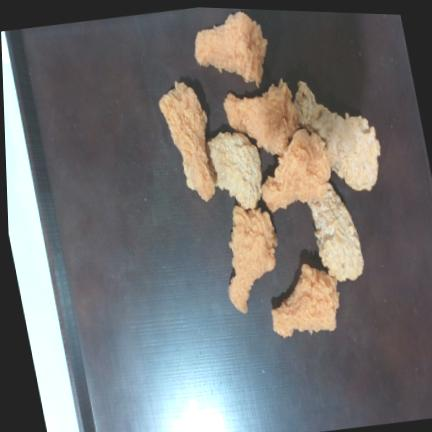chicken: (294, 81, 380, 191), (159, 81, 214, 201), (224, 79, 298, 156), (262, 129, 330, 212), (308, 183, 363, 281), (195, 12, 267, 86), (229, 206, 277, 313), (272, 264, 339, 337), (206, 132, 262, 209)
